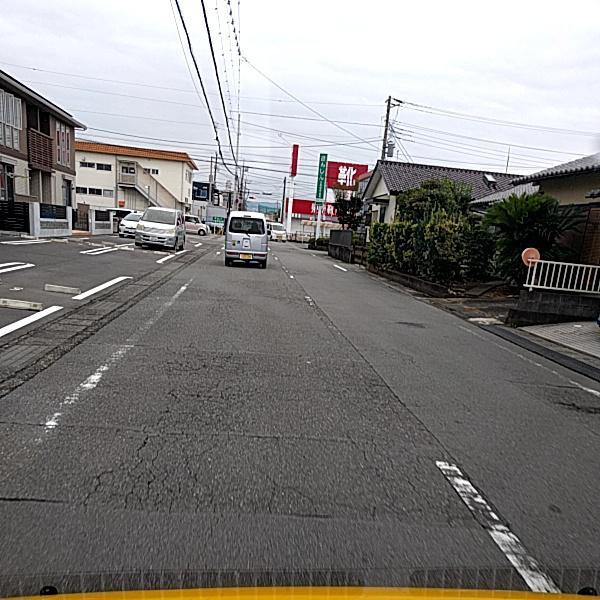D20: (75, 348, 442, 534)
D44: (0, 256, 213, 478), (433, 454, 558, 594)
